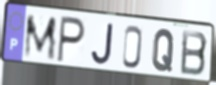0: (122, 25, 144, 70)
B: (179, 29, 209, 78)
J: (90, 23, 116, 67)
M: (22, 14, 58, 62)
P: (55, 14, 87, 66)
Q: (151, 27, 177, 73)
